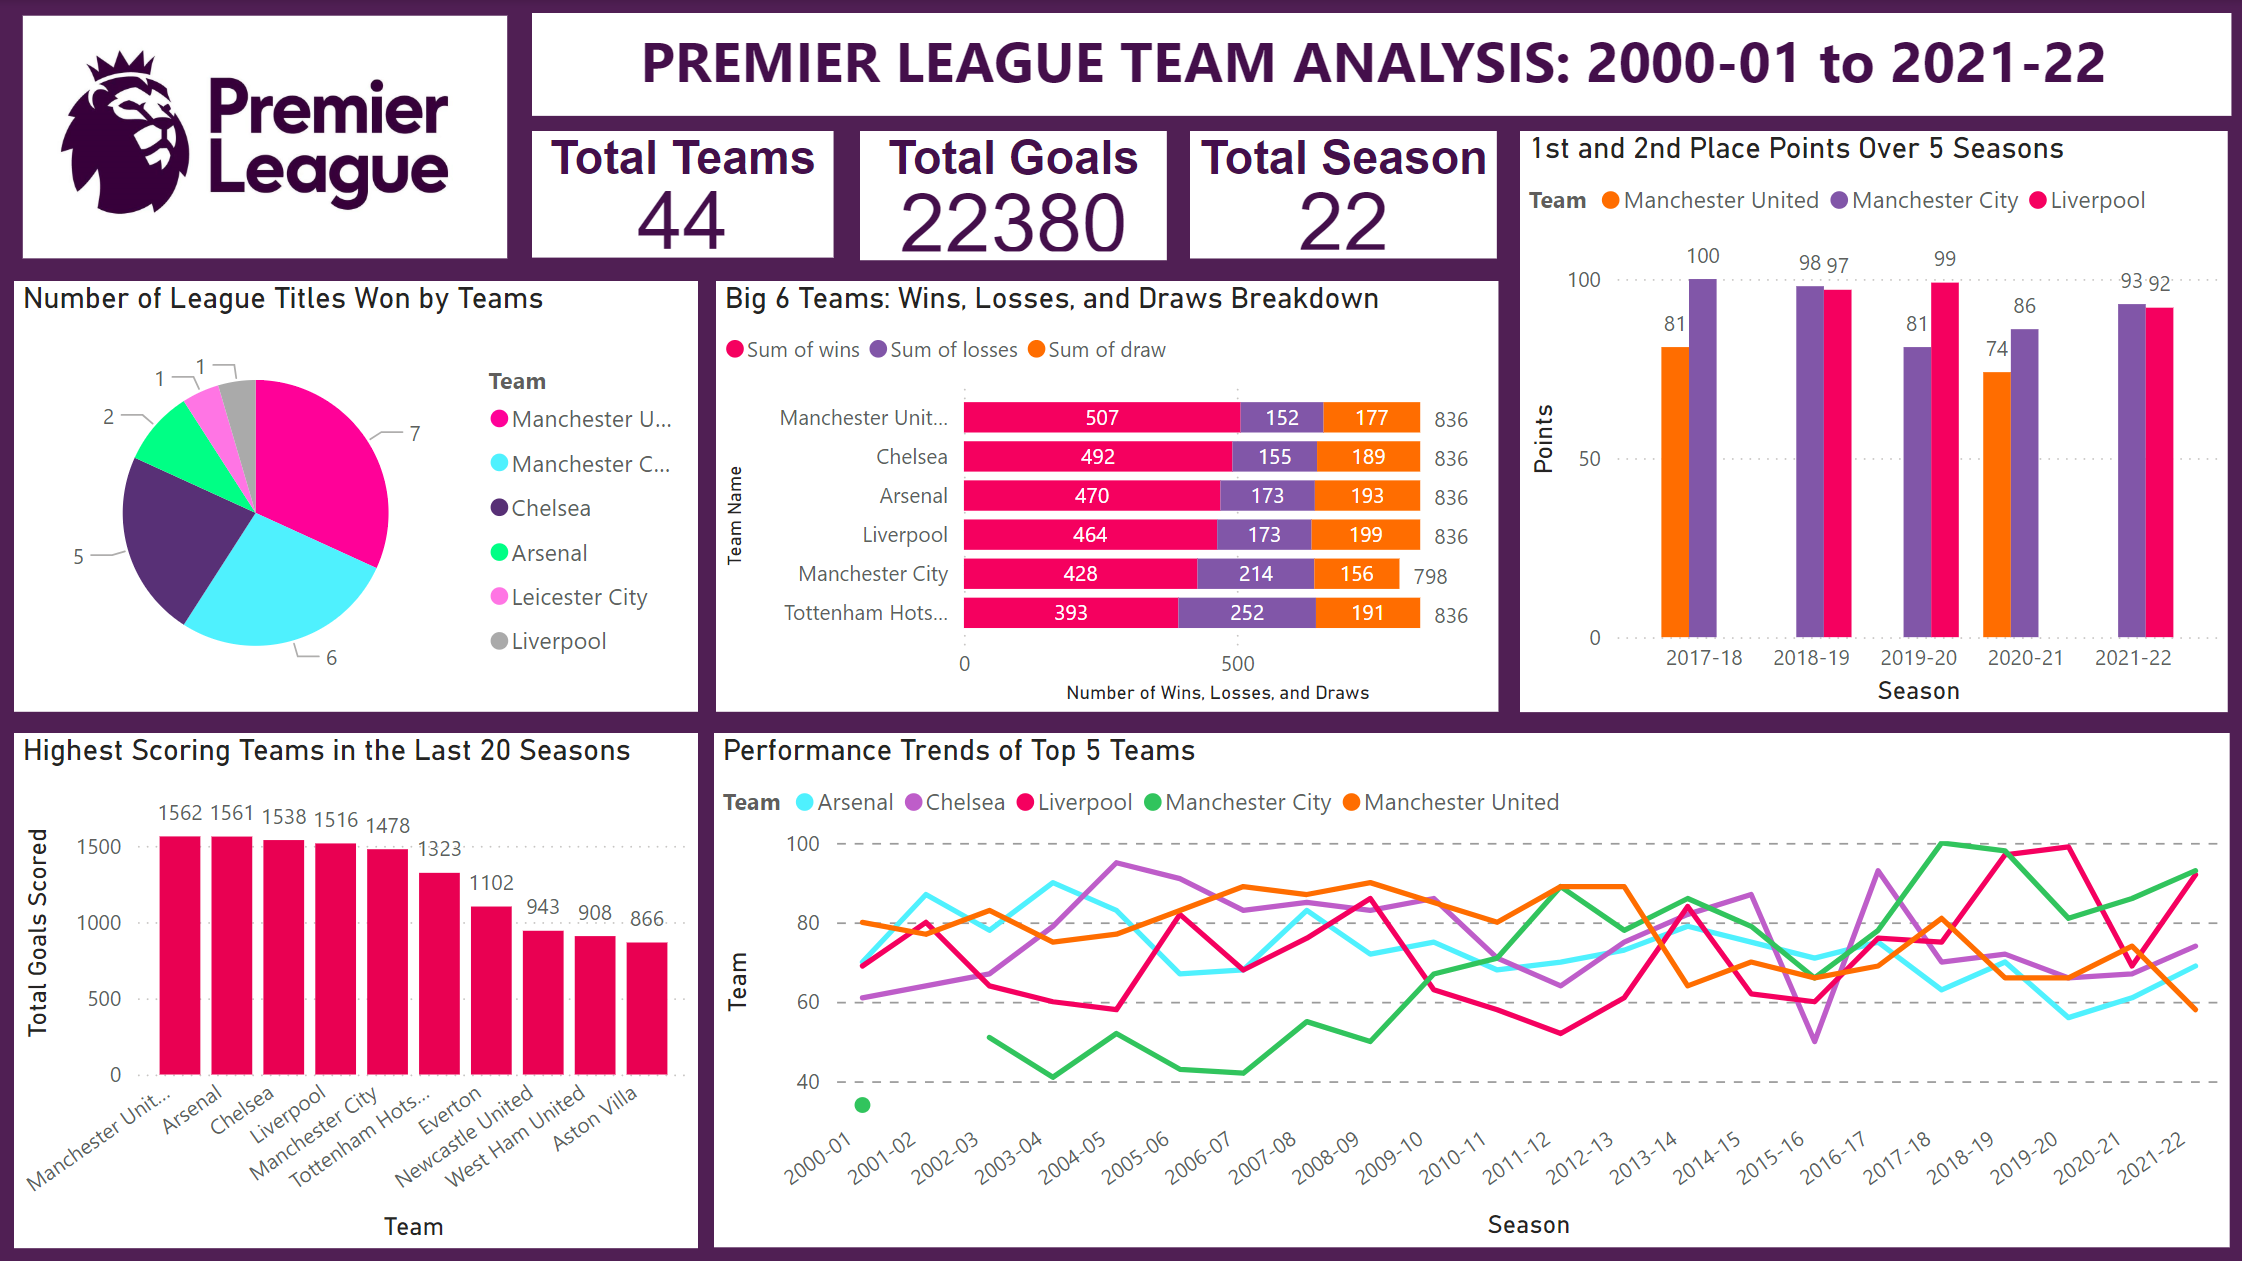

Layout of this report page (visuals, bound fields, positions):
{"tool":"powerbi","page":{"name":"Dashboard","canvas":[1280,720],"ordinal":0},"visuals":[{"type":"card","title":"Total Season","fields":{"Values":["Count(cleaned_epl_data.season)"]},"box":[679.5,75.2,174.7,72.7],"z":0},{"type":"card","title":"Total Teams","fields":{"Values":["Count(cleaned_epl_data.team)"]},"box":[304.7,75,171.5,72],"z":1000},{"type":"card","title":"Total Goals","fields":{"Values":["Sum(cleaned_epl_data.goals_for)"]},"box":[491.5,75,174.5,73.5],"z":2000},{"type":"columnChart","title":"Highest Scoring Teams in the Last 20 Seasons","fields":{"Category":["cleaned_epl_data.team"],"Y":["Sum(cleaned_epl_data.goals_for)"]},"box":[10.2,416.9,388.8,293.2],"z":3000},{"type":"lineChart","title":"Performance Trends of Top 5 Teams","fields":{"Y":["Sum(cleaned_epl_data.points)"],"Category":["cleaned_epl_data.season"],"Series":["cleaned_epl_data.team"]},"box":[408.8,418,862,292.4],"z":4000},{"type":"barChart","title":"Big 6 Teams: Wins, Losses, and Draws Breakdown","fields":{"Category":["cleaned_epl_data.team"],"Y":["Sum(cleaned_epl_data.wins)","Sum(cleaned_epl_data.losses)","Sum(cleaned_epl_data.draw)"]},"box":[409.2,160.6,444.9,244.8],"z":5000},{"type":"pieChart","title":"Number of League Titles Won by Teams","fields":{"Category":["cleaned_epl_data.team"],"Y":["CountNonNull(cleaned_epl_data.position)"]},"box":[10.2,160.6,388.8,244.8],"z":6000},{"type":"image","box":[10.2,0,285.6,156.8],"z":7000},{"type":"textbox","box":[304.7,7.6,966.4,58.6],"z":8000},{"type":"clusteredColumnChart","title":"1st and 2nd Place Points Over 5 Seasons","fields":{"Category":["cleaned_epl_data.season"],"Y":["Sum(cleaned_epl_data.points)"],"Series":["cleaned_epl_data.team"]},"box":[866.6,74.9,402.7,330.7],"z":9000}]}

Visuals, with their boxes in screenshot pixels (x1, y1, x2, y2), scaled from the page's 1280x720 canvas onto the 2242x1261 screenshot:
"Total Season" card: locate(1190, 132, 1496, 259)
"Total Teams" card: locate(534, 131, 834, 257)
"Total Goals" card: locate(861, 131, 1167, 260)
"Highest Scoring Teams in the Last 20 Seasons" columnChart: locate(18, 730, 699, 1244)
"Performance Trends of Top 5 Teams" lineChart: locate(716, 732, 2226, 1244)
"Big 6 Teams: Wins, Losses, and Draws Breakdown" barChart: locate(717, 281, 1496, 710)
"Number of League Titles Won by Teams" pieChart: locate(18, 281, 699, 710)
image: locate(18, 0, 518, 275)
textbox: locate(534, 13, 2226, 116)
"1st and 2nd Place Points Over 5 Seasons" clusteredColumnChart: locate(1518, 131, 2223, 710)
